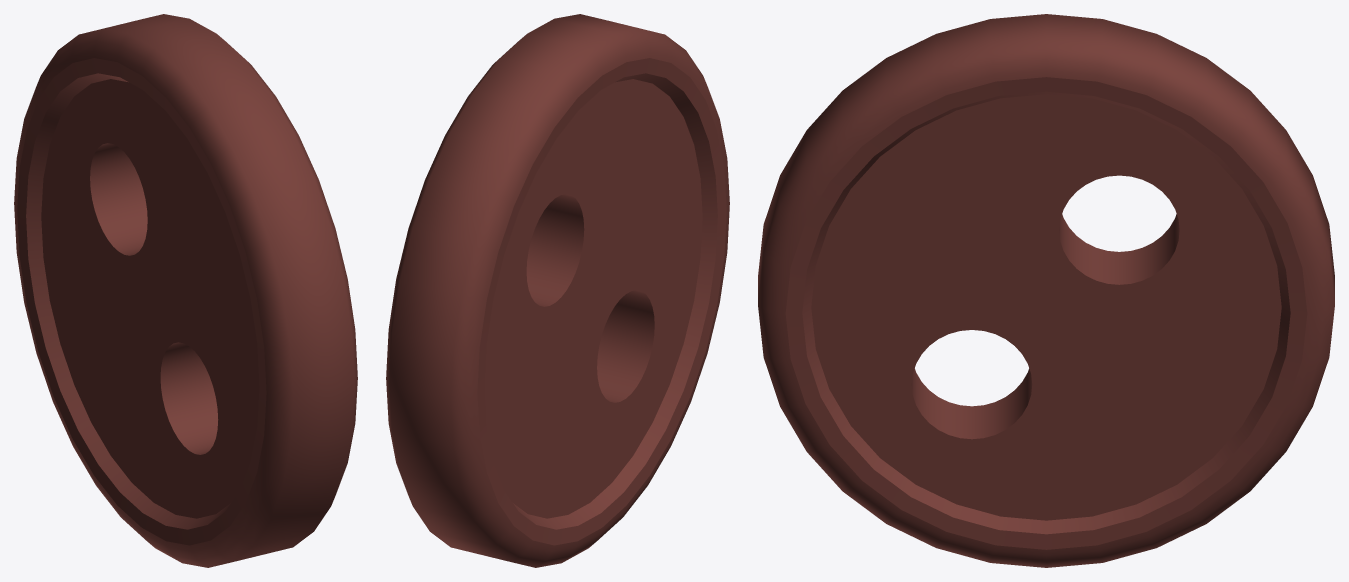
File: geo_button.fbx
3 views of the same model, side by side, from view 1: azimuth 30°, elevation 25°; view 2: azimuth 150°, elevation 25°; view 3: azimuth 270°, elevation 25° (orthographic). The views are drawn at different scales.
Visible parts, largest first — view 1: button; view 2: button; view 3: button.
Boxes of the visible parts, box(x1,y1,x2,y2) form: button: box(14, 14, 357, 567); button: box(386, 14, 729, 567); button: box(758, 14, 1334, 567).
Size of the model in its own units: 6.11 by 33.1 by 33.1.
